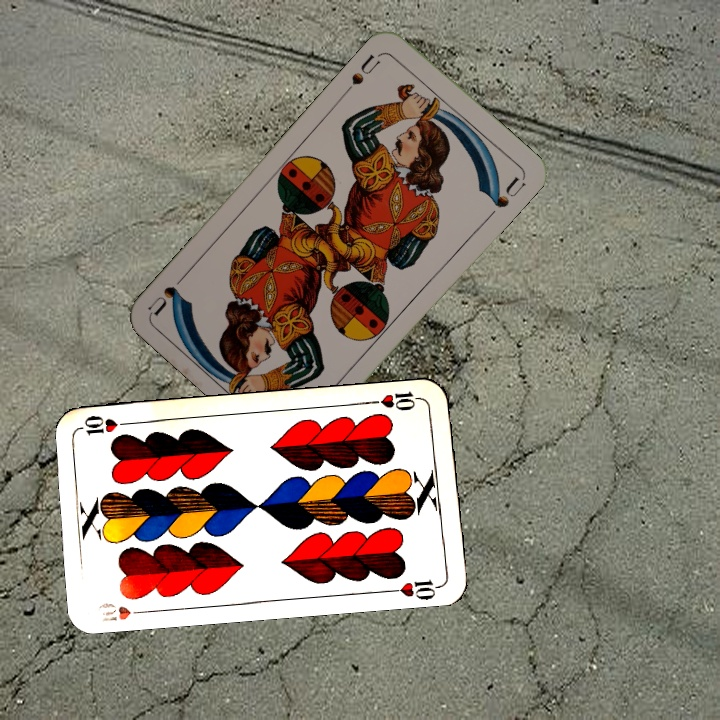H10: (366, 387, 426, 414), (93, 598, 152, 624)
SU: (340, 49, 385, 96)
